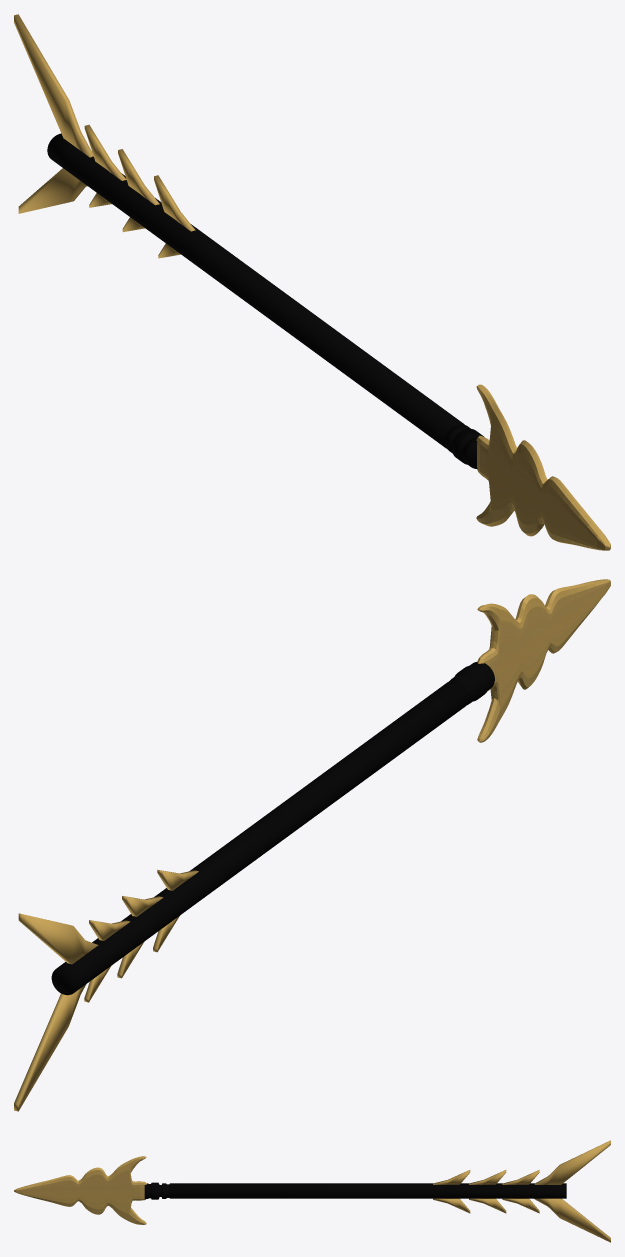
Rendered from Arrow_Air.glb.
The picture shows the model from 3 angles, top to bottom: view 1: azimuth 30°, elevation 25°; view 2: azimuth 150°, elevation 25°; view 3: azimuth 270°, elevation 25°; orthographic projection. The views are drawn at different scales.
Visible parts, largest first — view 1: Arrow_Air; view 2: Arrow_Air; view 3: Arrow_Air.
Part boxes in pixels (bbox=[...]): Arrow_Air: bbox=[14, 14, 610, 550]; Arrow_Air: bbox=[14, 579, 610, 1111]; Arrow_Air: bbox=[14, 1140, 610, 1242].
Size of the model in its own units: 0.0227 by 0.1485 by 0.8.
Materials: 2 (1 with a texture image).
